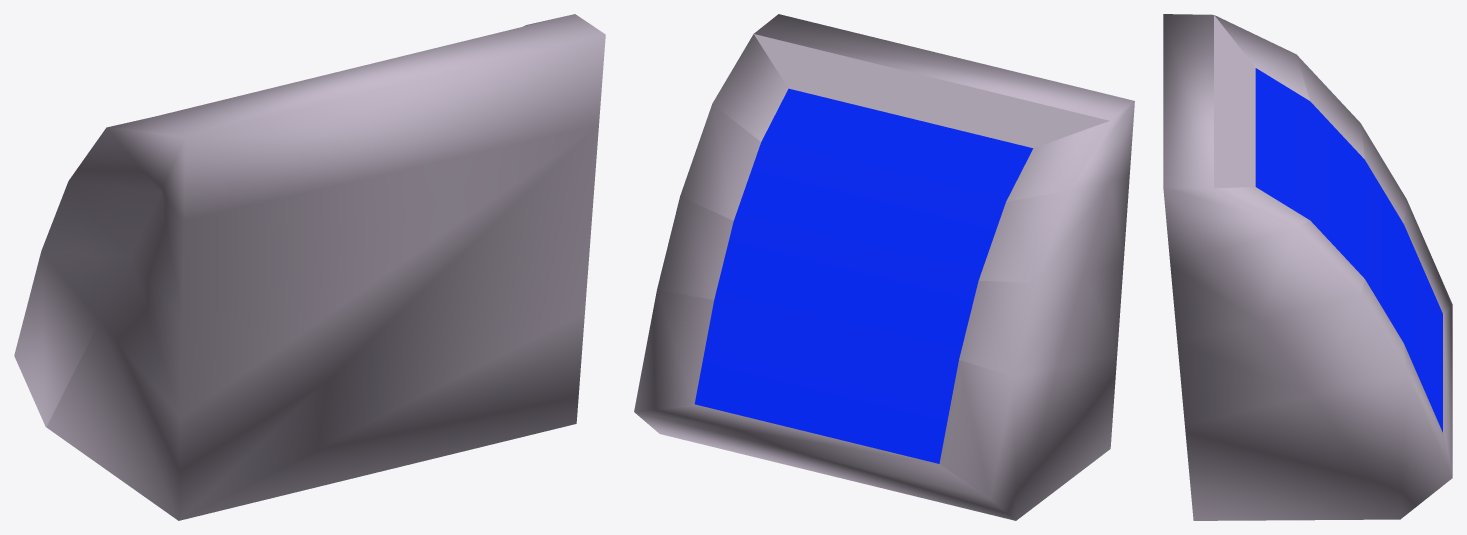
File: Handscanner Beacon.fbx
3 renders of one model, left to right at view 1: azimuth 30°, elevation 25°; view 2: azimuth 150°, elevation 25°; view 3: azimuth 270°, elevation 25°, orthographic. The views are drawn at different scales.
Parts seen in each view (by area): view 1: FrontPaneling; view 2: FrontPaneling, Scanner; view 3: FrontPaneling, Scanner.
Boxes of the visible parts, left/top/right/bottom form: FrontPaneling: left=14, top=14, right=605, bottom=520; FrontPaneling: left=634, top=14, right=1134, bottom=520; Scanner: left=694, top=88, right=1033, bottom=463; FrontPaneling: left=1163, top=14, right=1452, bottom=520; Scanner: left=1255, top=68, right=1442, bottom=432.
Bounding box in the file's own units: 100 × 90.93 × 70.52.
